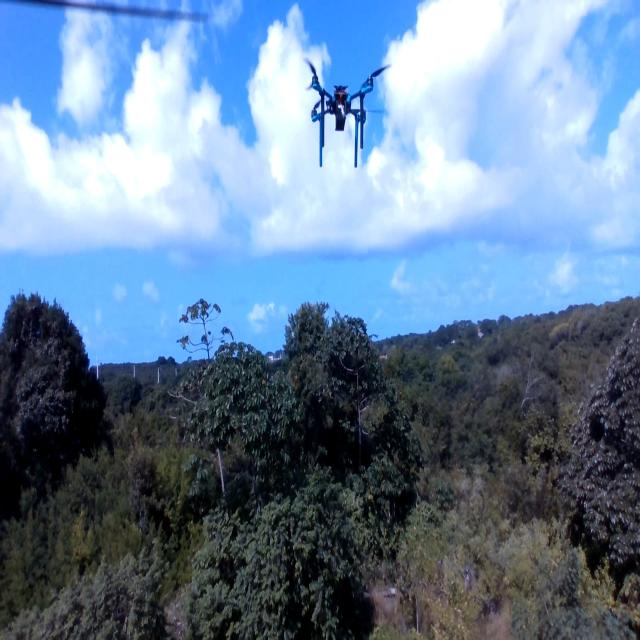-uav-: (289, 46, 402, 182)
